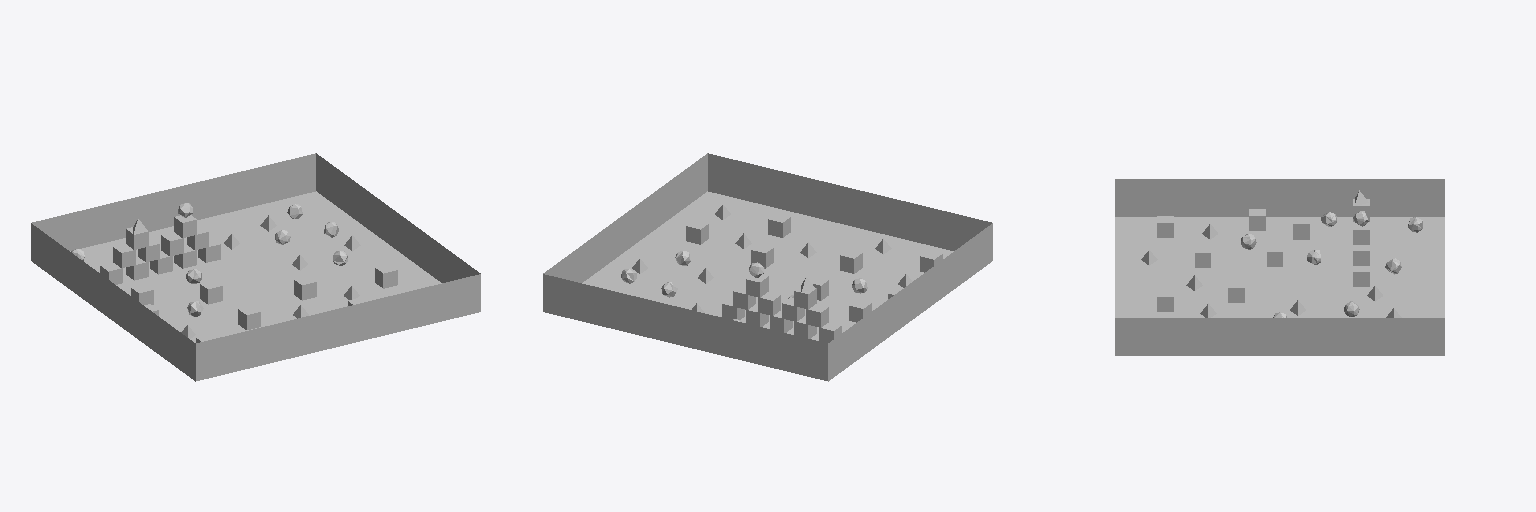
Rendered from Level2.obj.
3 views of the same model, side by side, from view 1: azimuth 30°, elevation 25°; view 2: azimuth 150°, elevation 25°; view 3: azimuth 270°, elevation 25° (orthographic).
Parts seen in each view (by area): view 1: initialShadingGroup pCube1; view 2: initialShadingGroup pCube1; view 3: initialShadingGroup pCube1.
Part boxes in pixels (x1,y1,x2,y2): initialShadingGroup pCube1: (31, 153, 480, 381); initialShadingGroup pCube1: (543, 153, 992, 381); initialShadingGroup pCube1: (1115, 179, 1444, 355).
Bounding box in the file's own units: 196 × 40 × 196.